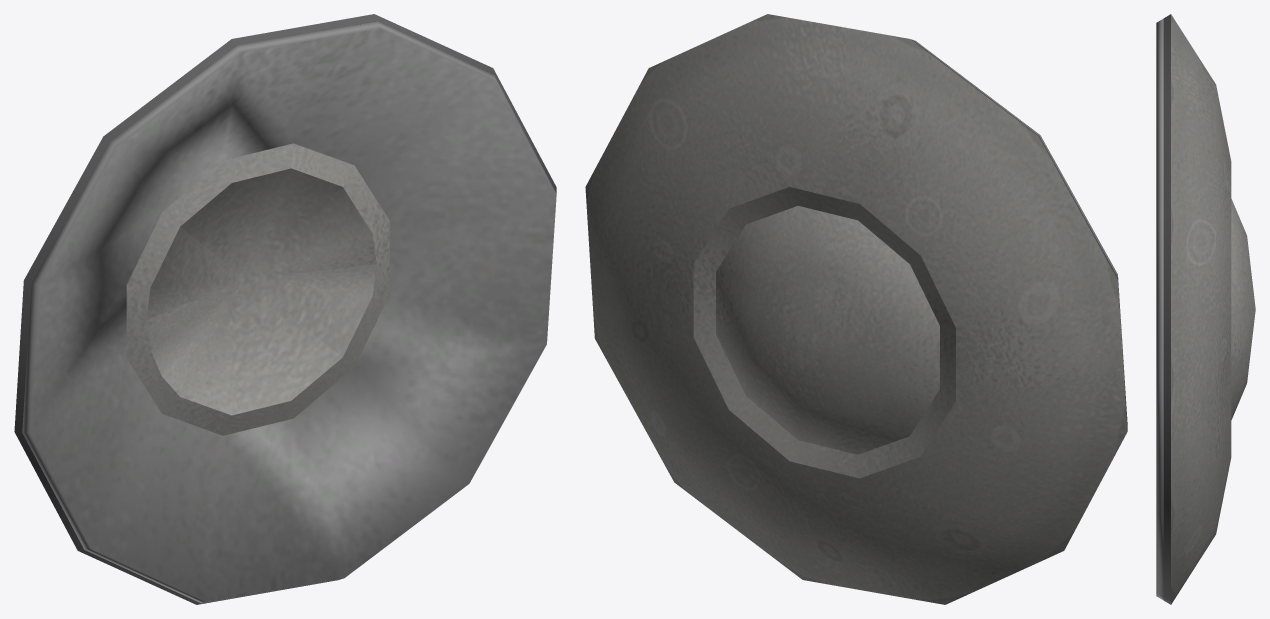
The model's file is nt_2020_kitchen_light_01_off_LOD2.obj.
3 views of the same model, side by side, from view 1: azimuth 30°, elevation 25°; view 2: azimuth 150°, elevation 25°; view 3: azimuth 270°, elevation 25° (orthographic). The views are drawn at different scales.
Visible parts, largest first — view 1: glass_frosted, mtl_nt_2020_kitchen_light_glass_off, nt_2020_metal_chrome; view 2: mtl_nt_2020_kitchen_light_glass_off; view 3: mtl_nt_2020_kitchen_light_glass_off, nt_2020_metal_chrome, glass_frosted.
Part boxes in pixels (box(x1,y1,x2,y2)): glass_frosted: box(22, 21, 556, 603); mtl_nt_2020_kitchen_light_glass_off: box(126, 143, 389, 435); nt_2020_metal_chrome: box(14, 14, 556, 604); mtl_nt_2020_kitchen_light_glass_off: box(585, 14, 1127, 604); mtl_nt_2020_kitchen_light_glass_off: box(1171, 14, 1255, 604); nt_2020_metal_chrome: box(1163, 14, 1170, 604); glass_frosted: box(1156, 18, 1163, 600).
Bounding box in the file's own units: 401 × 401 × 66.84.
